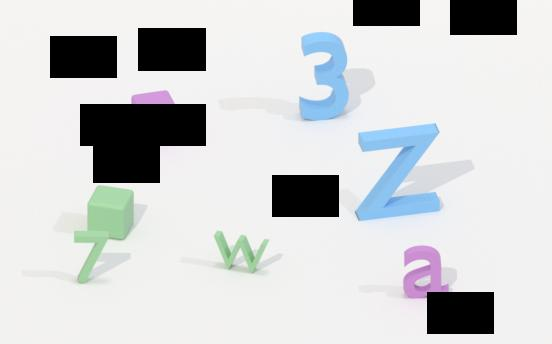3: (297, 28, 350, 124)
7: (72, 226, 111, 287)
a: (401, 242, 451, 299)
hop: (128, 87, 181, 149), (85, 182, 136, 242)
w: (211, 227, 272, 277)
z: (354, 120, 443, 222)
